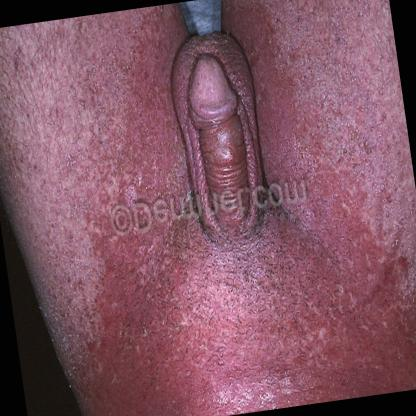Eczema: (284, 286, 380, 400), (74, 322, 182, 416), (181, 318, 283, 412), (240, 205, 328, 303), (128, 238, 228, 312), (376, 286, 416, 385), (190, 130, 250, 190), (121, 138, 178, 201), (332, 205, 379, 272), (134, 56, 175, 124), (269, 121, 319, 176), (258, 54, 292, 112)
